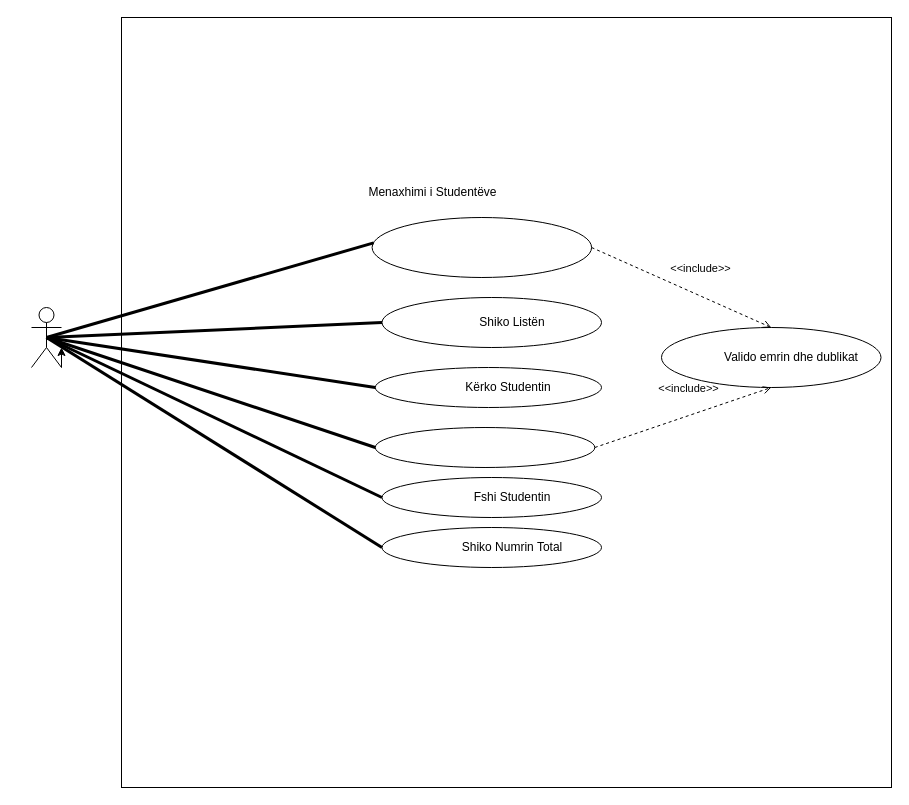
This 909x805 diagram has some shape labels left out. Each missing label, with the centre of its shape:
"Modifiko Studentin" belongs at (x=484, y=447).
"Përdoruesi" belongs at (x=46, y=337).
"Regjistro Studentin" belongs at (x=481, y=247).
